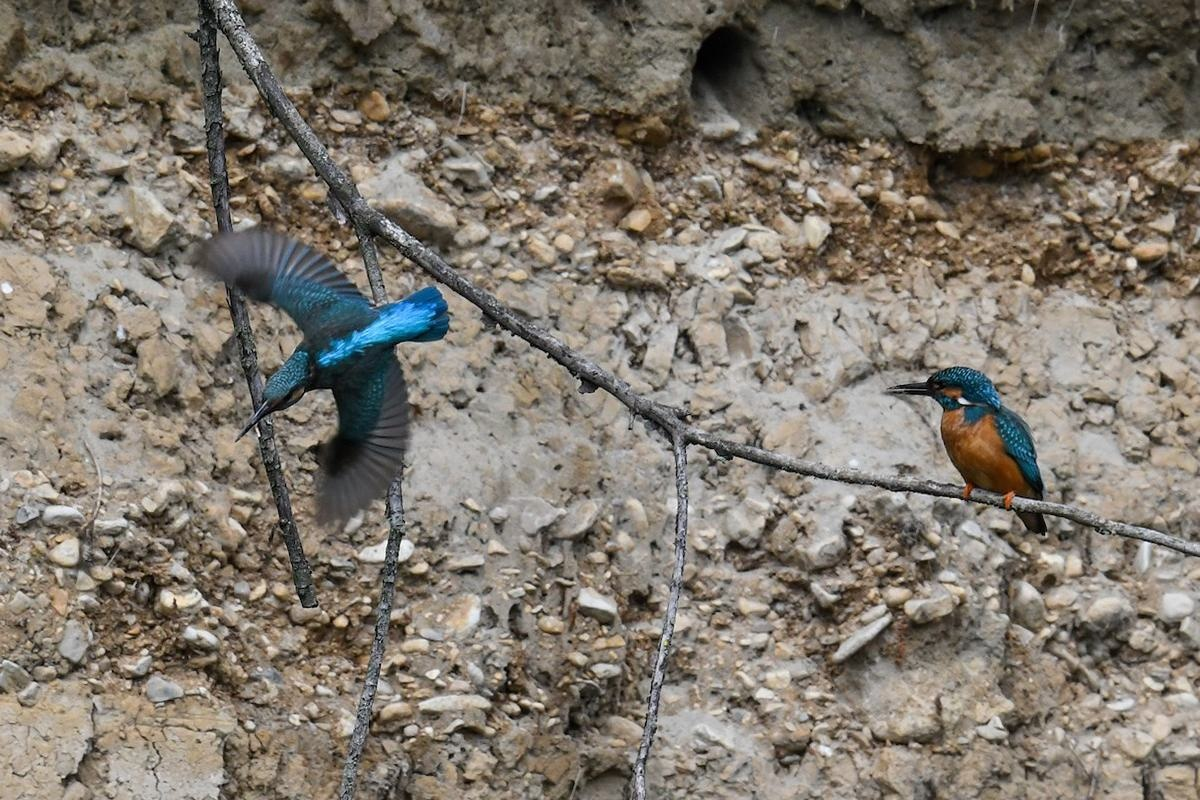kingfisher: (184, 223, 465, 563), (857, 355, 1100, 515)
